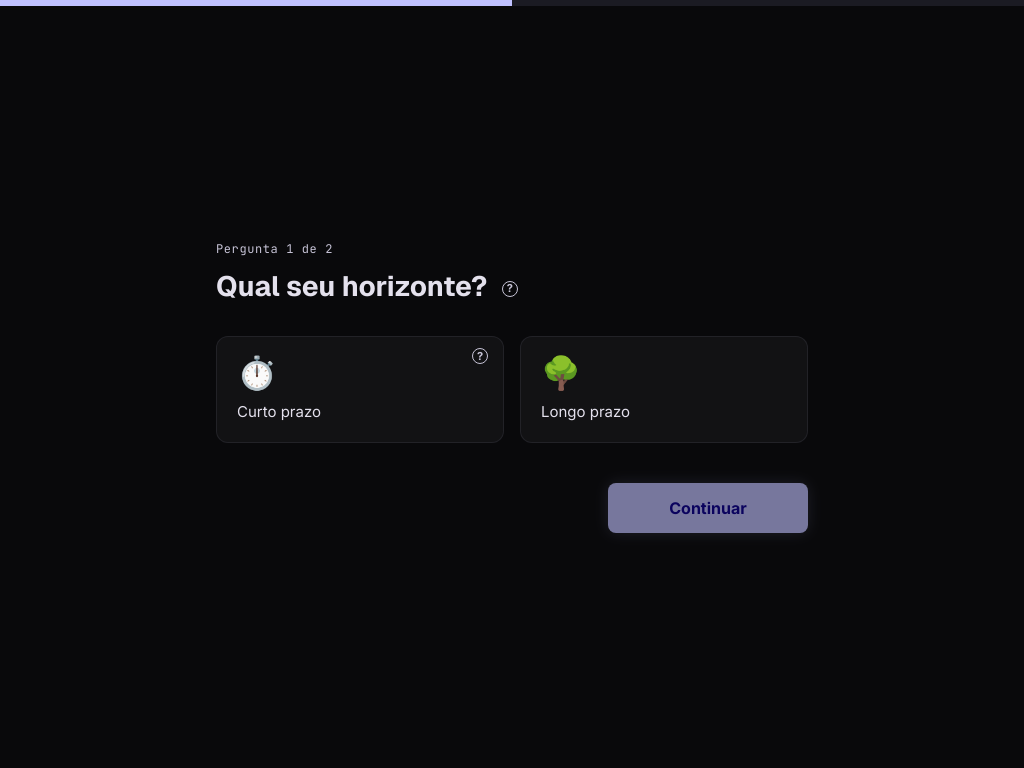
QuizComponent › deve mostrar a ajuda da pergunta ao lado do título
Step 1. Click the button with class "ajuda__botao" next to "Qual seu horizonte?" → (510, 288), box [498,276,522,300]
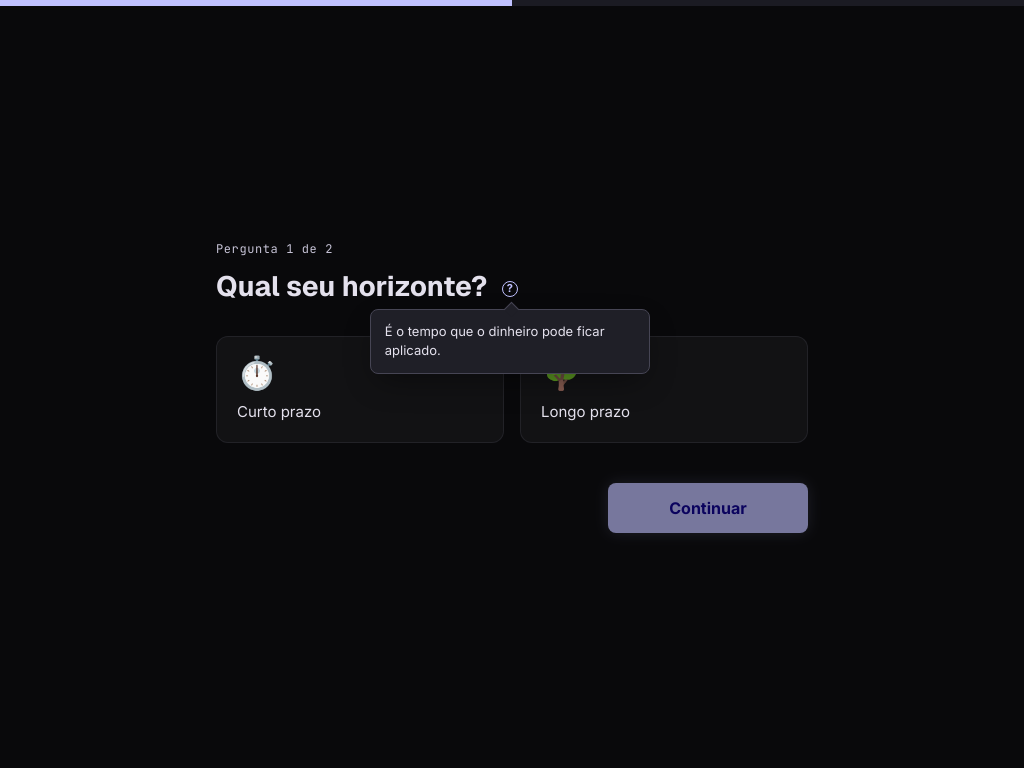
Check: the element with class "ajuda__balao" reads "É o tempo que o dinheiro pode ficar aplicado.", box [385,322,605,358]
